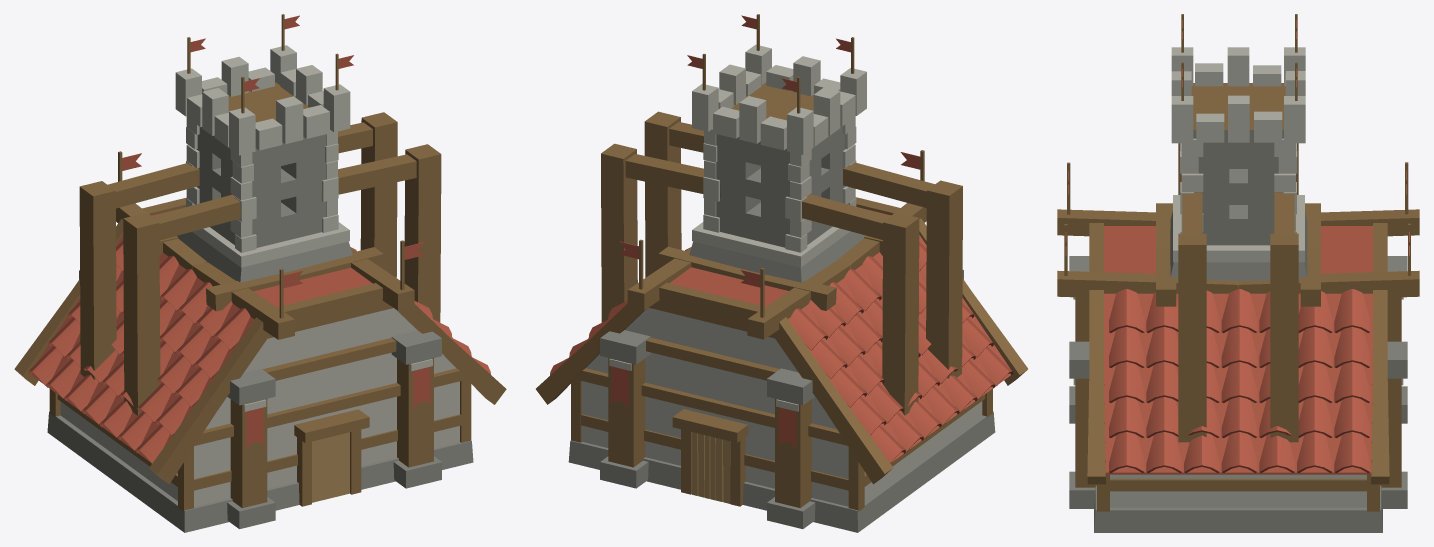
The model's file is TowerHouse_SecondAge.gltf.
3 renders of one model, left to right at view 1: azimuth 30°, elevation 25°; view 2: azimuth 150°, elevation 25°; view 3: azimuth 270°, elevation 25°, orthographic. The views are drawn at different scales.
Parts seen in each view (by area): view 1: TowerHouse_SecondAge; view 2: TowerHouse_SecondAge; view 3: TowerHouse_SecondAge.
Part boxes in pixels (x1=…): TowerHouse_SecondAge: x1=14, y1=14, x2=506, y2=532; TowerHouse_SecondAge: x1=536, y1=14, x2=1027, y2=532; TowerHouse_SecondAge: x1=1057, y1=14, x2=1419, y2=532.
Bounding box in the file's own units: 1.37 × 1.5 × 1.17.
